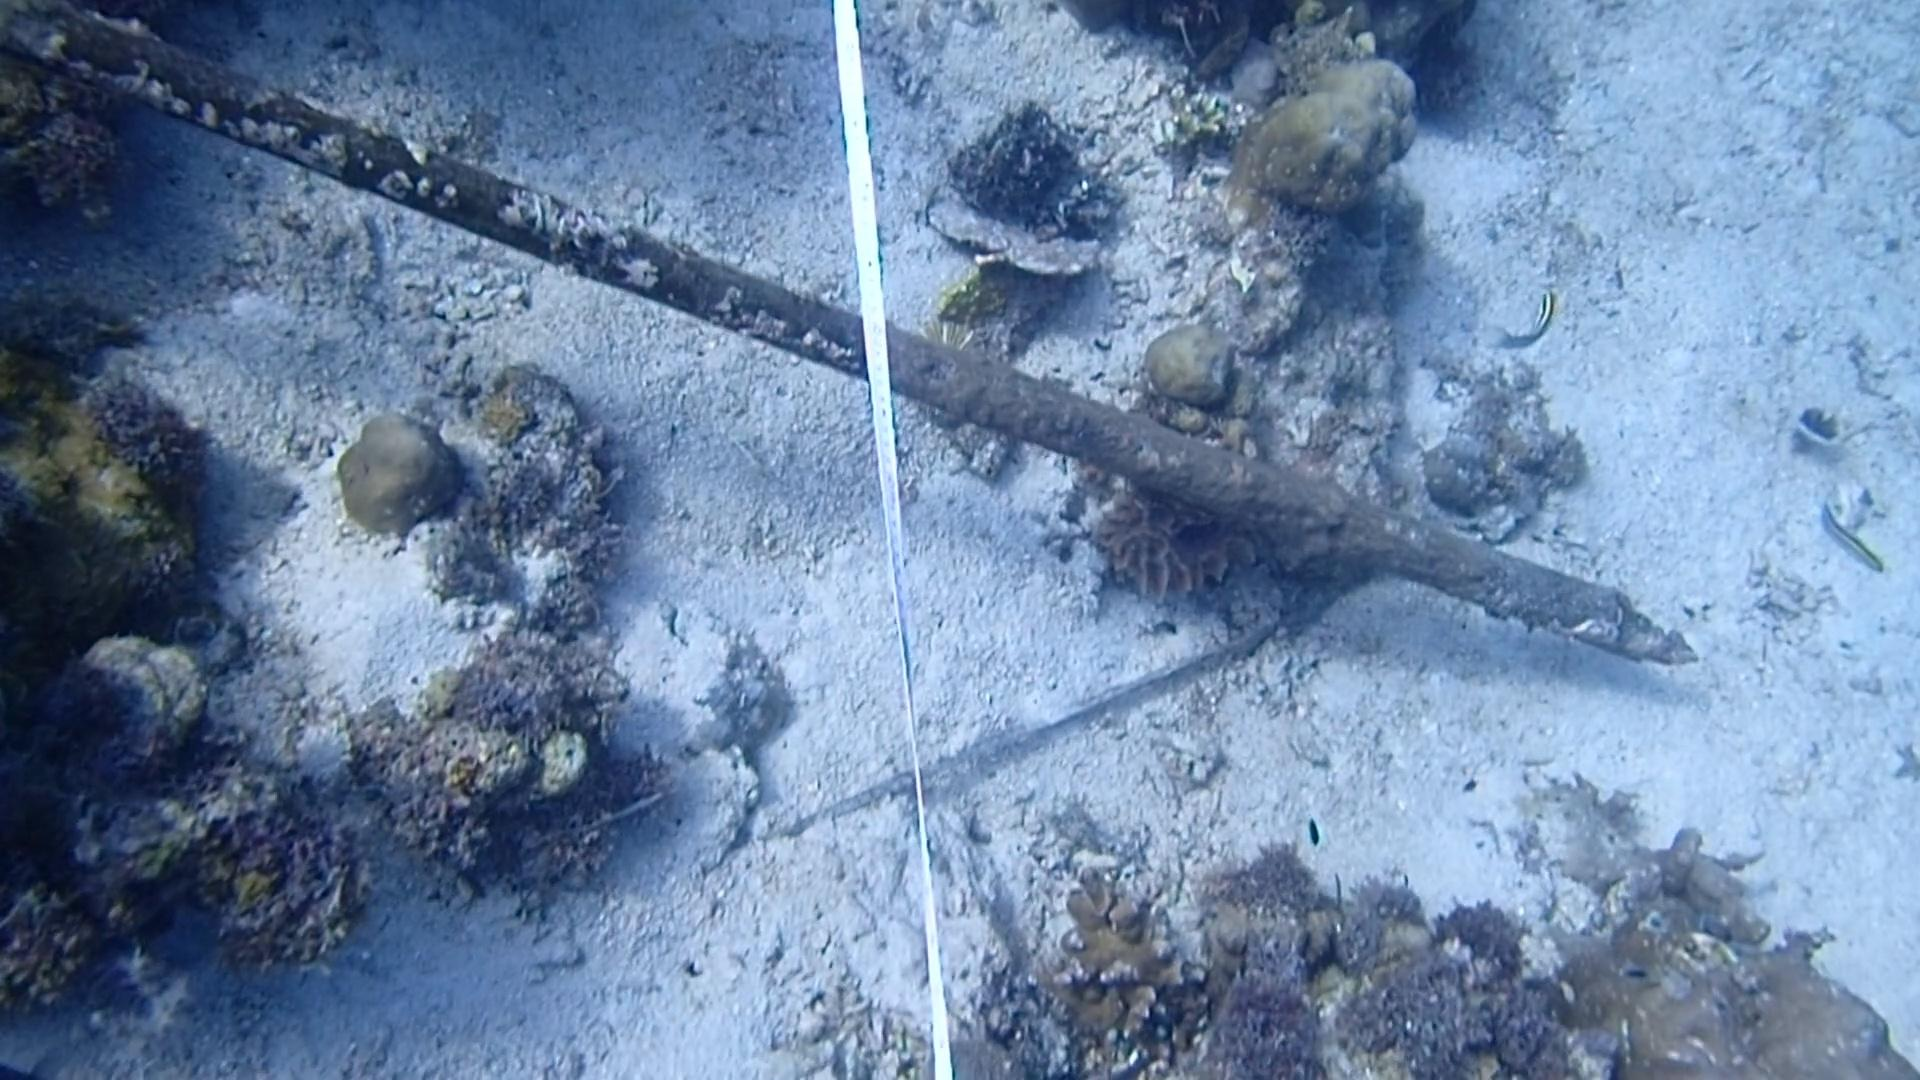Striped Fish: (1804, 496, 1899, 580), (1491, 281, 1576, 357)
